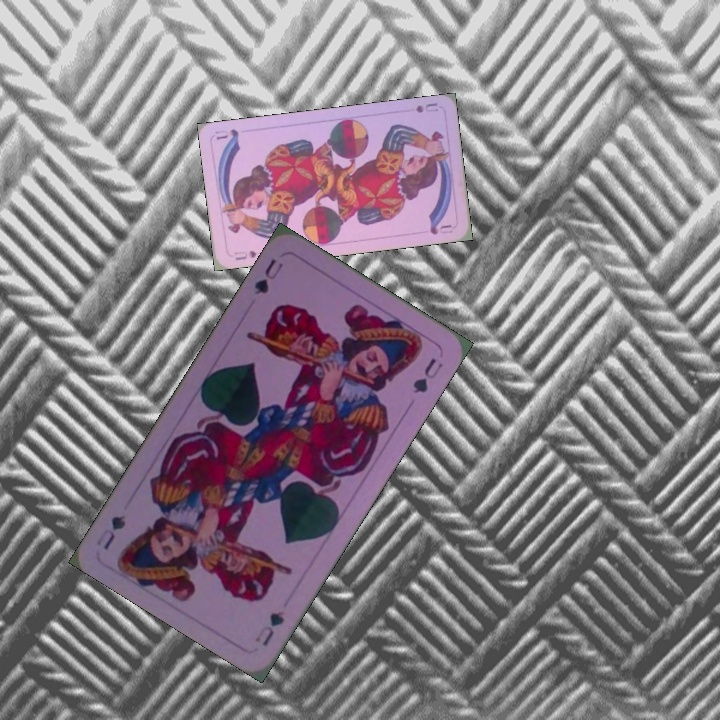GU: (250, 254, 286, 298), (251, 606, 287, 649)
SU: (230, 246, 259, 263), (412, 99, 441, 115)
